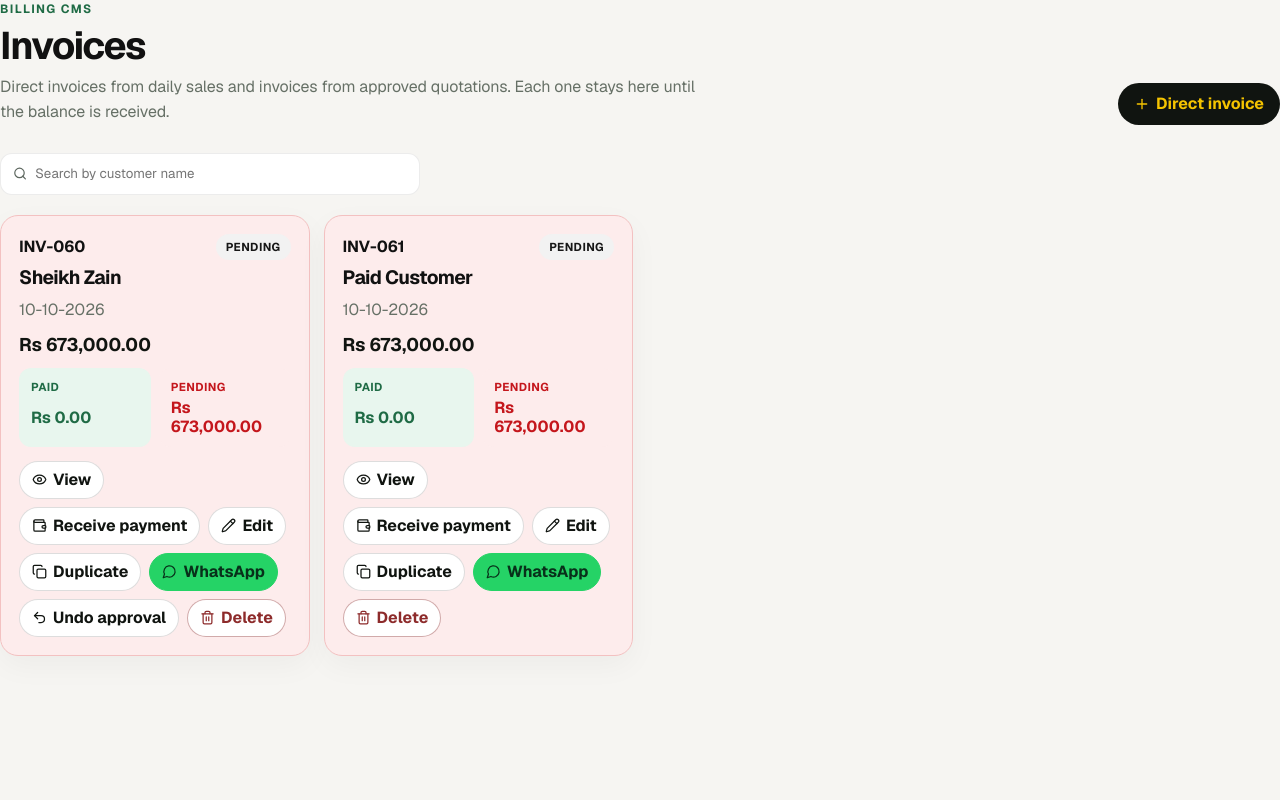
Test: an approved quotation's invoice can be undone back to quotations until a payment is recorded
What coordinates should you click on to do the following:
click the button "Undo approval"
I would click on:
 (99, 618)
Its box is [19, 599, 179, 637].
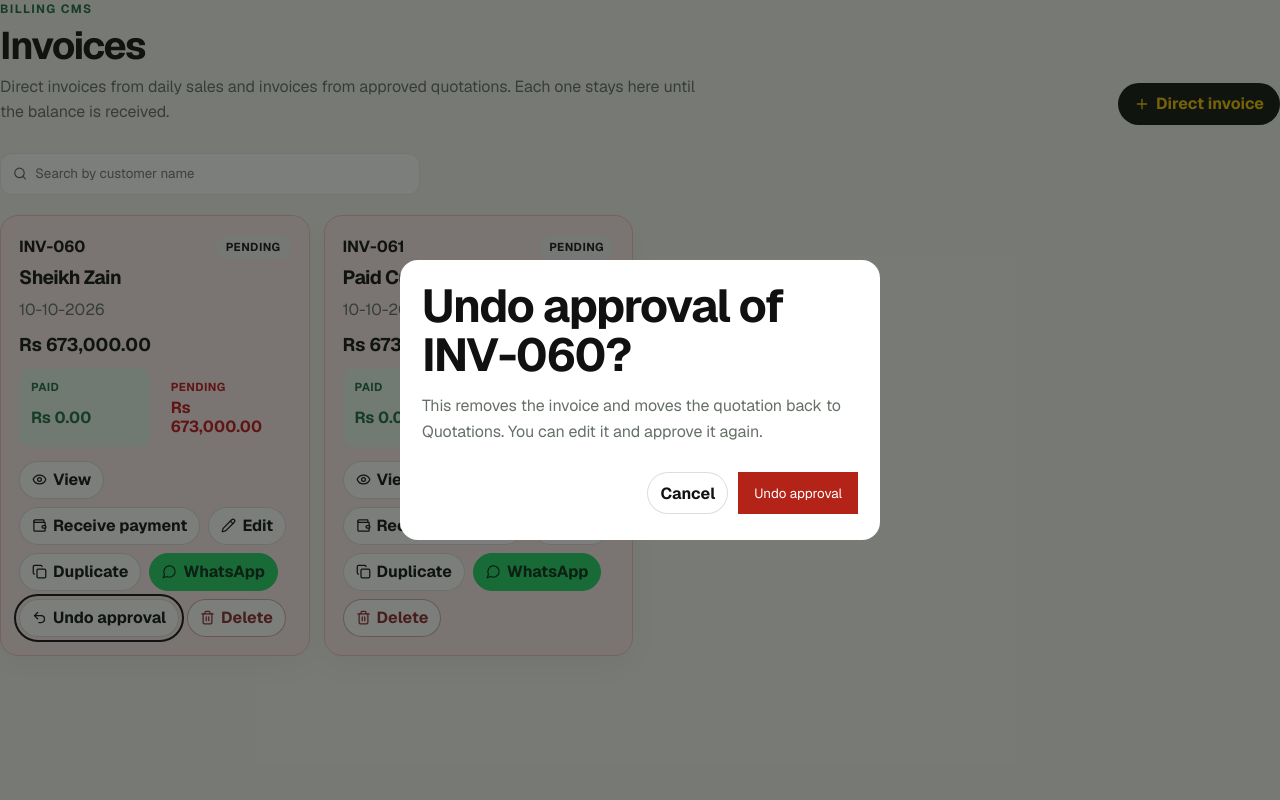
What coordinates should you click on to do the following:
click the button "Undo approval"
I would click on:
 (798, 493)
Its box is [738, 472, 858, 514].
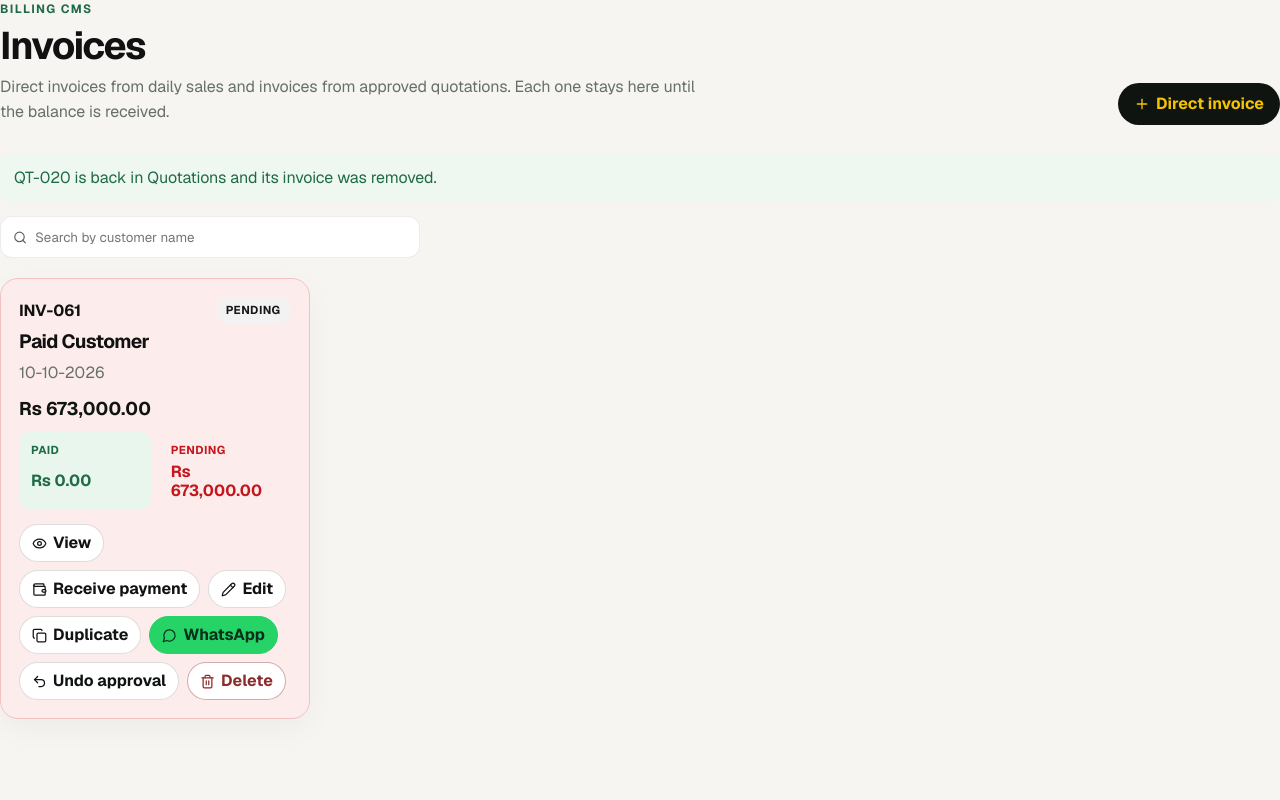
Expected: the text "QT-020 is back in Quotations and its invoice was removed." is shown, [0, 153, 1279, 202]
Expected: the text "INV-060" is gone
